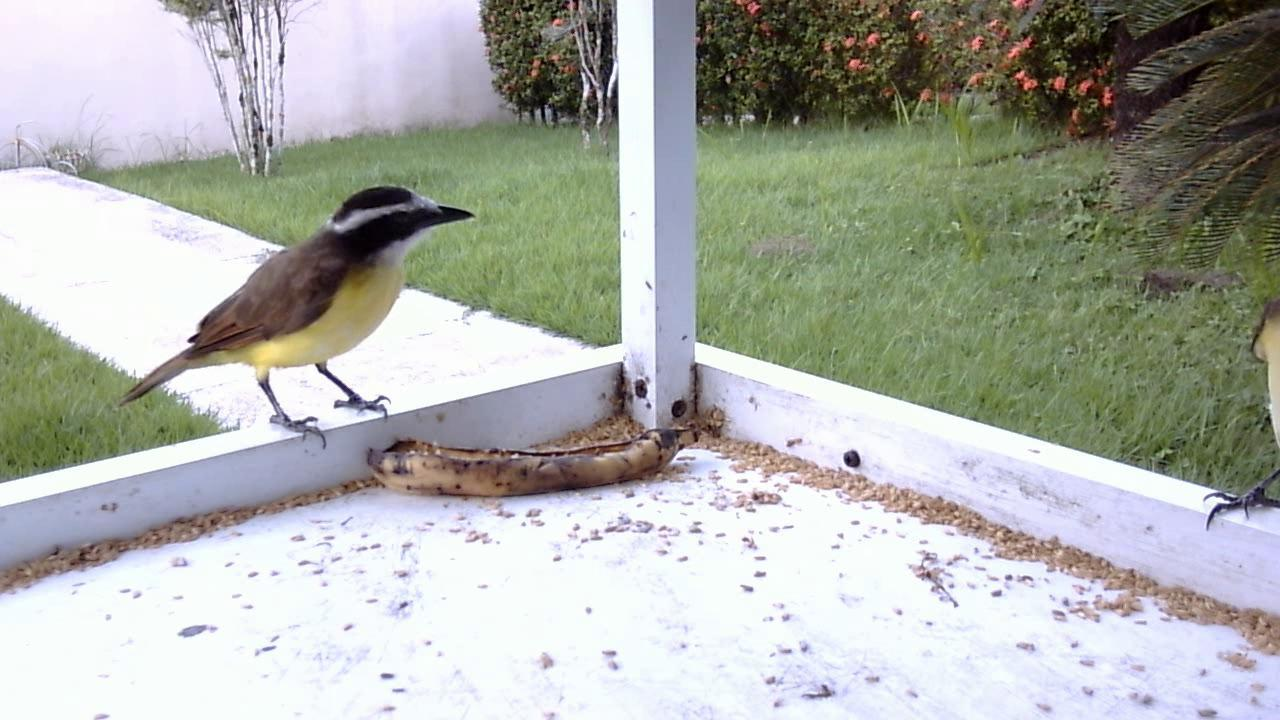bem_te_vi: (105, 175, 481, 460), (1198, 277, 1277, 541)
